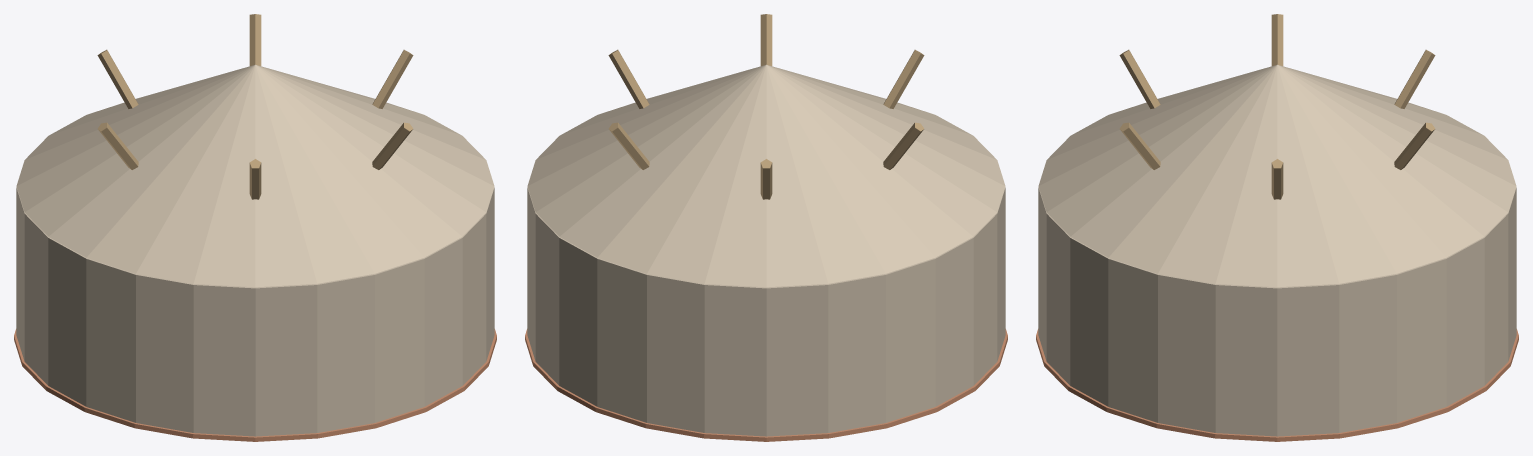
The model's file is yurt_interior.dae.
3 views of the same model, side by side, from view 1: azimuth 30°, elevation 25°; view 2: azimuth 150°, elevation 25°; view 3: azimuth 270°, elevation 25° (orthographic).
Visible parts, largest first — view 1: Cone, Cylinder.001, Cylinder, Cylinder.004, Cylinder.002, Cylinder.003, Cylinder.007, Cylinder.005, Cylinder.006; view 2: Cone, Cylinder.001, Cylinder, Cylinder.006, Cylinder.002, Cylinder.007, Cylinder.005, Cylinder.003, Cylinder.004; view 3: Cone, Cylinder.001, Cylinder, Cylinder.006, Cylinder.004, Cylinder.005, Cylinder.007, Cylinder.003, Cylinder.002.
Boxes of the visible parts, box(x1,y1,x2,y2) form: Cone: box(16, 64, 494, 287); Cylinder.001: box(16, 187, 494, 436); Cylinder: box(14, 329, 496, 441); Cylinder.004: box(97, 49, 138, 108); Cylinder.002: box(372, 49, 413, 108); Cylinder.003: box(249, 14, 261, 65); Cylinder.007: box(372, 122, 413, 169); Cylinder.005: box(97, 122, 138, 169); Cylinder.006: box(249, 159, 261, 199); Cone: box(527, 64, 1005, 287); Cylinder.001: box(527, 187, 1005, 436); Cylinder: box(525, 329, 1007, 441); Cylinder.006: box(883, 49, 924, 108); Cylinder.002: box(608, 49, 649, 108); Cylinder.007: box(760, 14, 772, 65); Cylinder.005: box(883, 122, 924, 169); Cylinder.003: box(608, 122, 649, 169); Cylinder.004: box(760, 159, 772, 199); Cone: box(1038, 64, 1516, 287); Cylinder.001: box(1038, 187, 1516, 436); Cylinder: box(1036, 329, 1518, 441); Cylinder.006: box(1119, 49, 1160, 108); Cylinder.004: box(1394, 49, 1435, 108); Cylinder.005: box(1271, 14, 1283, 65); Cylinder.007: box(1119, 122, 1160, 169); Cylinder.003: box(1394, 122, 1435, 169); Cylinder.002: box(1271, 159, 1283, 199).
Size of the model in its own units: 396 by 396 by 249.
